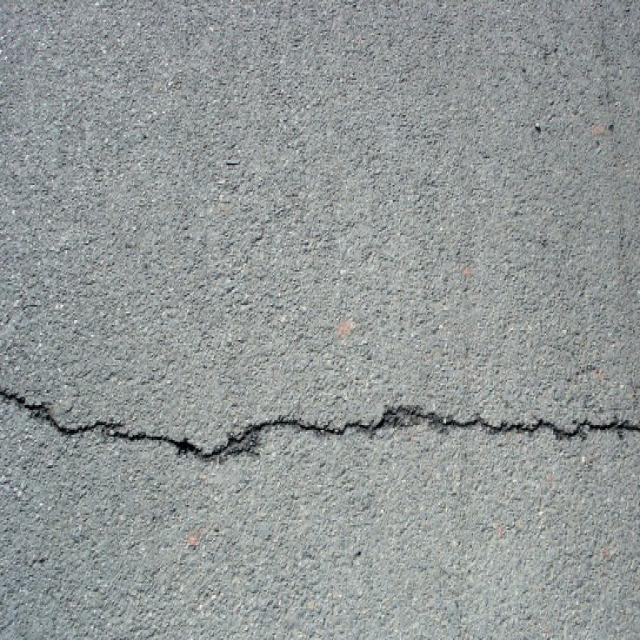Transverse: (1, 376, 640, 474)
